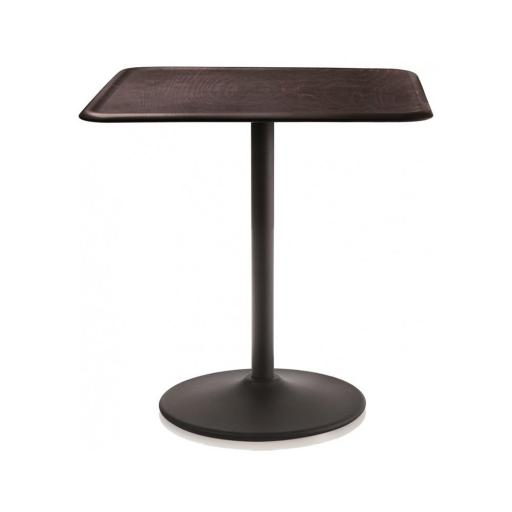table: (87, 63, 439, 439)
